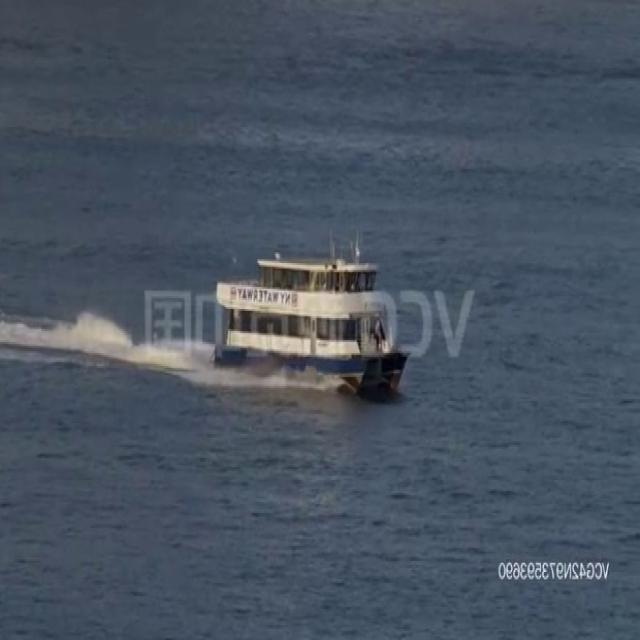passenger ship: (210, 237, 402, 389)
